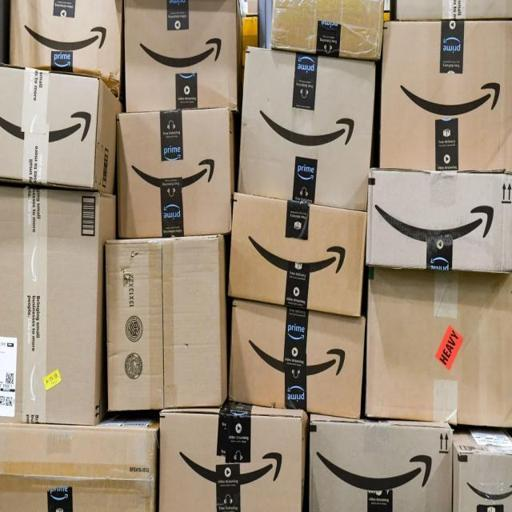Amazon: (0, 186, 108, 422), (246, 47, 367, 209), (383, 18, 512, 168), (228, 295, 366, 427), (368, 166, 512, 275), (161, 407, 306, 512), (235, 192, 362, 311), (0, 422, 154, 512), (115, 114, 230, 233), (0, 65, 105, 190), (316, 415, 448, 512), (124, 0, 241, 108), (7, 0, 122, 87), (271, 0, 380, 58), (448, 440, 512, 512)
